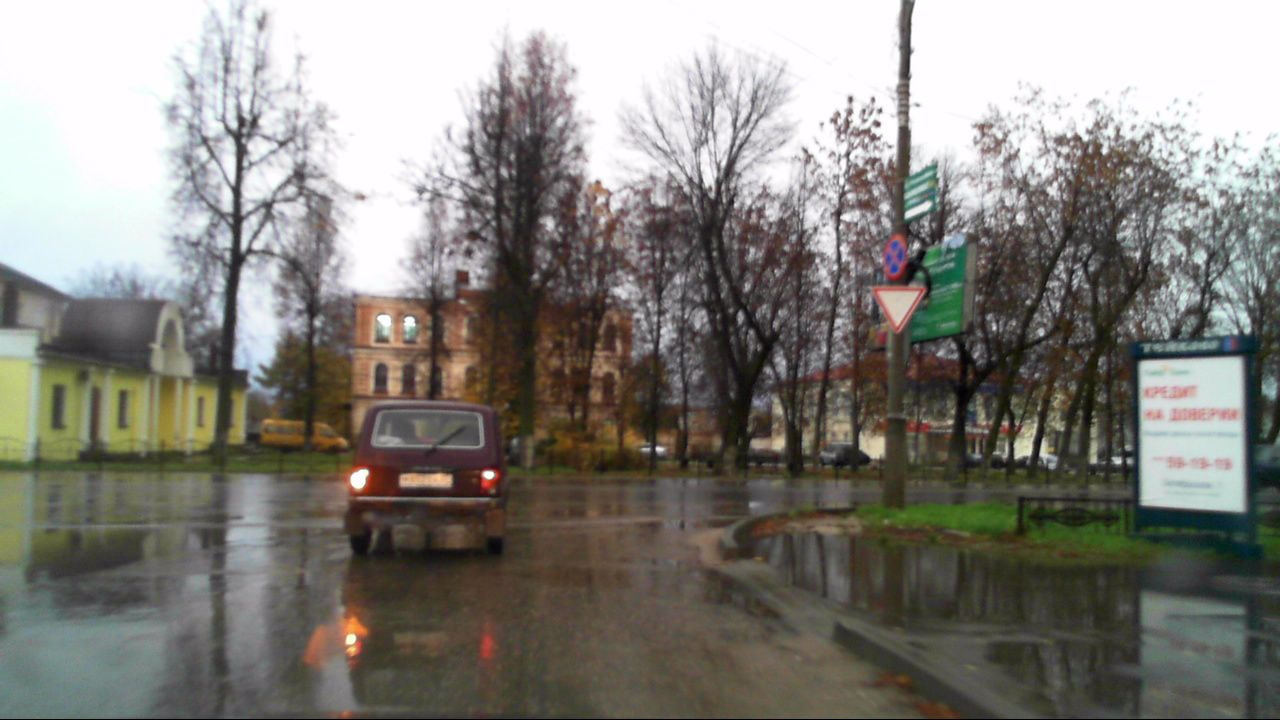No Parking: (881, 232, 907, 279)
